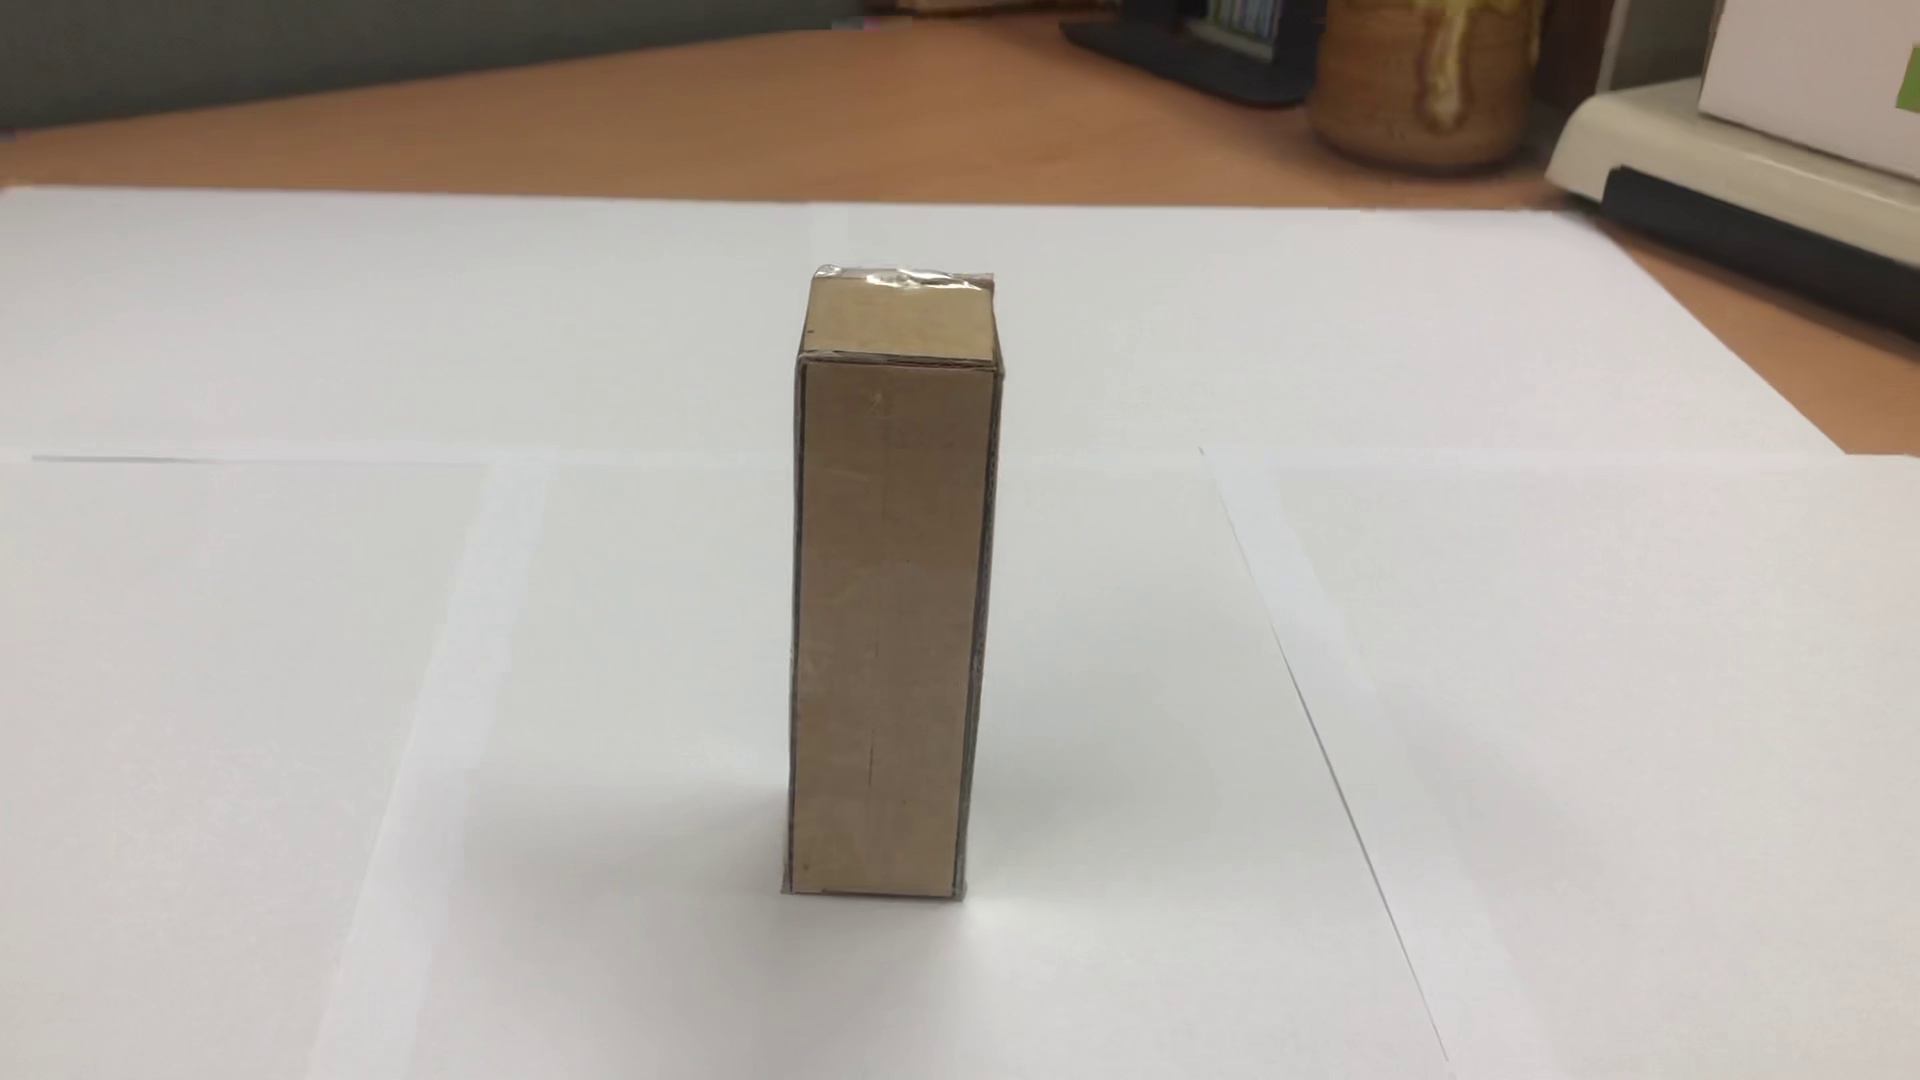box: (717, 231, 1043, 956)
